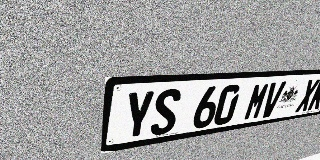0: (212, 84, 242, 126)
6: (191, 86, 222, 129)
K: (307, 78, 320, 111)
M: (243, 82, 271, 121)
S: (149, 88, 182, 136)
V: (259, 81, 286, 118)
X: (295, 79, 320, 113)
Y: (122, 90, 155, 141)
